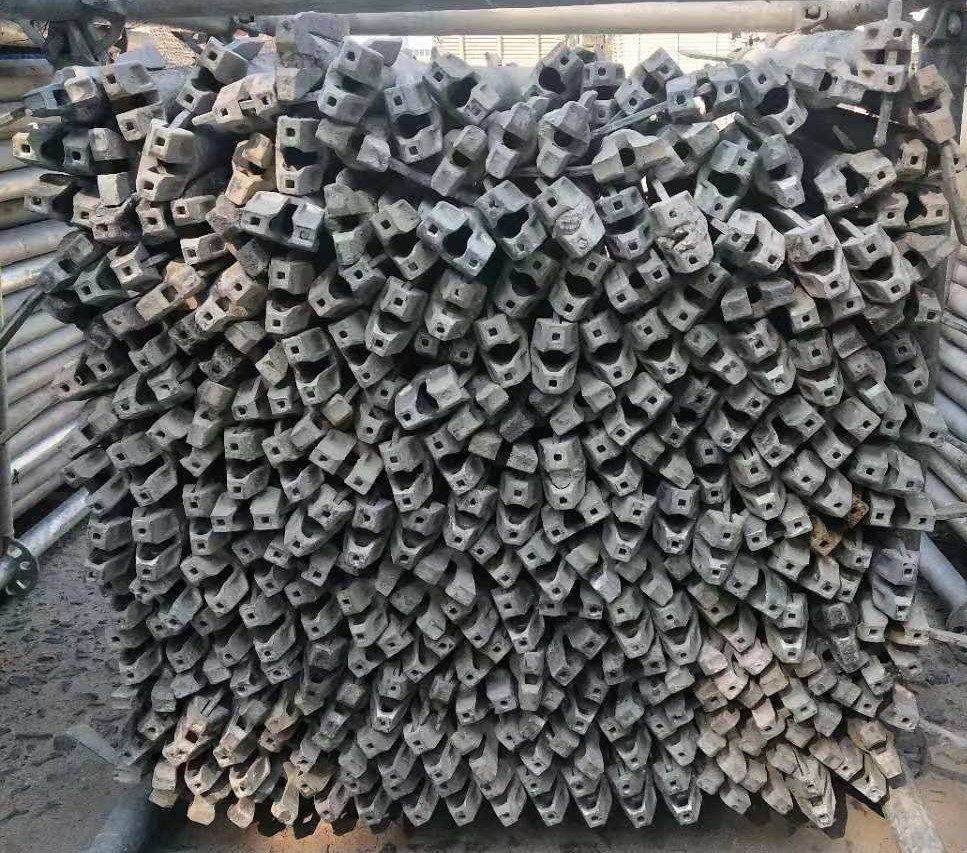NHsquare_steel: (432, 125, 487, 201), (536, 101, 590, 178), (653, 121, 721, 182), (42, 296, 112, 353), (313, 121, 391, 172), (486, 103, 537, 180), (208, 209, 263, 277), (34, 233, 95, 294), (226, 324, 285, 386), (134, 267, 203, 320), (269, 16, 311, 103), (790, 57, 865, 105), (548, 383, 617, 435), (592, 135, 666, 182), (447, 385, 509, 440), (324, 183, 365, 266), (56, 406, 119, 460), (227, 130, 272, 205), (686, 327, 744, 385), (22, 75, 100, 118), (291, 394, 352, 448), (833, 308, 900, 357), (763, 134, 806, 209), (88, 124, 126, 208), (634, 434, 693, 486), (498, 393, 562, 440), (719, 281, 795, 320), (854, 722, 902, 781), (183, 382, 225, 448), (665, 558, 718, 610), (391, 588, 445, 639), (568, 548, 619, 602), (846, 352, 891, 411), (820, 597, 858, 666), (417, 560, 476, 604), (550, 731, 605, 778), (758, 653, 821, 694), (783, 725, 843, 768), (616, 560, 674, 604), (902, 235, 957, 281), (698, 730, 746, 782), (468, 436, 539, 471), (696, 769, 750, 815), (613, 680, 665, 727), (309, 731, 364, 775), (149, 789, 214, 826), (665, 651, 727, 689), (321, 683, 364, 737), (743, 768, 792, 815), (455, 729, 497, 783), (739, 735, 794, 772), (172, 664, 229, 699), (107, 689, 176, 715), (519, 652, 548, 712), (111, 766, 178, 790)
THsquare_steel: (533, 177, 607, 260), (417, 204, 492, 278), (650, 190, 714, 274), (425, 51, 493, 126), (742, 59, 807, 135), (479, 182, 541, 260), (819, 151, 896, 213), (134, 119, 192, 201), (371, 201, 429, 283), (791, 219, 851, 298), (317, 39, 375, 119), (700, 142, 761, 218), (365, 277, 422, 358), (716, 212, 787, 277), (382, 79, 436, 163), (177, 35, 233, 115), (608, 378, 672, 447), (394, 370, 468, 429), (94, 63, 148, 143), (75, 247, 150, 304), (661, 64, 740, 118), (240, 200, 322, 251), (758, 402, 825, 463), (817, 402, 878, 469), (103, 306, 162, 375), (599, 188, 654, 262), (167, 319, 230, 383), (284, 493, 347, 557), (855, 229, 910, 302), (630, 312, 686, 383), (617, 48, 680, 111), (667, 265, 728, 330), (472, 315, 527, 387), (553, 252, 611, 320), (311, 438, 379, 496), (521, 42, 583, 105), (195, 267, 256, 331), (791, 333, 842, 409), (786, 458, 851, 517), (773, 543, 839, 601), (660, 380, 717, 447), (740, 321, 793, 393), (308, 261, 377, 316), (494, 253, 555, 315), (530, 318, 579, 395), (710, 390, 771, 451), (867, 18, 915, 95), (19, 181, 97, 228), (282, 335, 333, 406), (108, 442, 162, 509), (581, 314, 633, 383), (9, 131, 92, 174), (272, 116, 317, 195), (179, 557, 237, 617), (262, 259, 308, 334), (328, 318, 378, 387), (262, 431, 310, 502), (910, 66, 953, 144), (550, 626, 606, 685), (604, 494, 654, 560), (854, 449, 924, 496), (607, 258, 670, 310), (48, 354, 116, 402), (427, 428, 475, 496), (426, 277, 478, 339), (113, 371, 184, 416), (148, 424, 207, 478), (60, 460, 116, 516), (539, 439, 583, 510), (92, 203, 170, 243), (586, 435, 637, 496), (229, 537, 280, 598), (787, 293, 864, 333), (383, 440, 427, 510), (213, 79, 277, 127), (520, 537, 567, 602), (445, 489, 493, 552), (390, 507, 437, 571), (879, 401, 947, 445), (132, 582, 193, 631), (169, 195, 211, 266), (810, 500, 867, 552), (343, 501, 387, 568), (724, 570, 784, 619), (350, 626, 410, 675), (219, 427, 259, 500), (735, 458, 783, 518), (238, 601, 284, 663), (545, 498, 608, 543), (745, 510, 814, 551), (264, 545, 331, 587), (877, 550, 918, 618), (898, 139, 964, 181), (162, 744, 214, 797), (497, 723, 549, 776), (353, 382, 397, 444), (114, 716, 167, 767), (697, 510, 734, 583), (655, 602, 700, 662), (888, 331, 930, 395), (582, 60, 622, 127), (194, 612, 243, 666), (79, 520, 119, 586), (101, 630, 149, 685), (227, 660, 296, 698), (458, 636, 512, 684), (406, 728, 453, 783), (146, 619, 192, 675), (702, 600, 752, 651), (837, 752, 887, 803), (755, 693, 814, 736), (882, 193, 952, 229), (795, 766, 835, 829), (655, 488, 693, 554), (770, 598, 808, 664), (862, 655, 923, 696), (130, 519, 170, 581), (300, 642, 338, 707), (284, 582, 328, 638), (667, 685, 727, 726), (336, 586, 376, 647), (609, 598, 650, 657), (295, 776, 344, 825), (442, 599, 490, 649), (359, 731, 406, 782), (868, 498, 934, 534), (212, 744, 256, 798), (496, 592, 536, 651), (616, 770, 656, 829), (496, 474, 530, 543), (601, 718, 647, 769), (229, 385, 296, 420), (852, 695, 919, 730), (404, 637, 456, 682), (860, 614, 930, 647), (183, 485, 215, 557), (660, 770, 701, 826), (368, 676, 408, 733), (210, 503, 281, 535), (567, 680, 609, 734), (456, 687, 517, 724), (257, 733, 315, 771), (695, 437, 728, 503), (385, 778, 431, 825), (835, 545, 872, 603), (478, 779, 523, 826), (413, 335, 478, 367), (473, 542, 518, 588), (567, 776, 608, 826), (651, 718, 693, 766), (527, 776, 566, 827), (435, 779, 475, 826), (347, 776, 384, 825), (892, 291, 942, 327), (598, 658, 667, 683), (539, 599, 604, 620)
